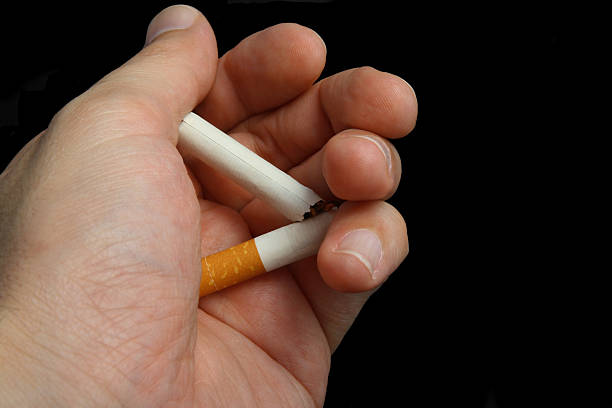cigarette: (177, 109, 329, 226), (198, 205, 340, 297)
